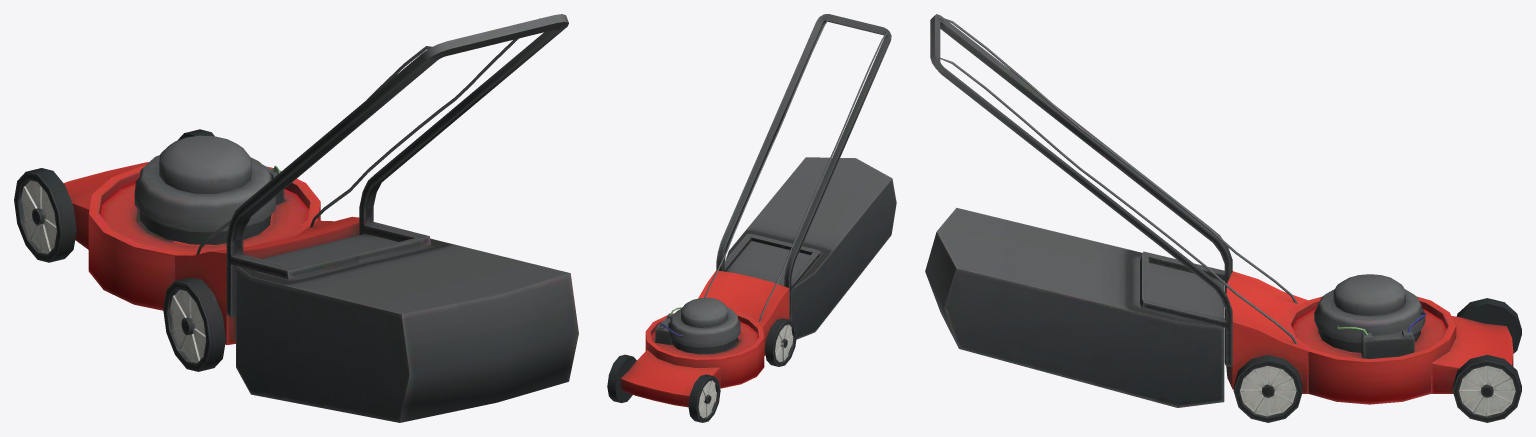
The model's file is mower-anim.glb.
3 renders of one model, left to right at view 1: azimuth 30°, elevation 25°; view 2: azimuth 150°, elevation 25°; view 3: azimuth 270°, elevation 25°, orthographic. The views are drawn at different scales.
Parts seen in each view (by area): view 1: Bag, HandleBar, Engine, MainBody, WheelBL, WheelFL, BackBody, FrontBody; view 2: Bag, HandleBar, MainBody, Engine, BackBody, FrontBody, WheelFL, WheelBL, WheelFR; view 3: Bag, HandleBar, MainBody, Engine, BackBody, WheelBR, WheelFR, FrontBody, WheelFL.
Boxes of the visible parts, x1=… form: Bag: x1=236, y1=233, x2=578, y2=422; HandleBar: x1=196, y1=14, x2=568, y2=317; Engine: x1=134, y1=135, x2=284, y2=244; MainBody: x1=88, y1=164, x2=320, y2=310; WheelBL: x1=163, y1=277, x2=225, y2=371; WheelFL: x1=14, y1=168, x2=76, y2=262; BackBody: x1=175, y1=216, x2=359, y2=344; FrontBody: x1=63, y1=162, x2=148, y2=249; Bag: x1=725, y1=157, x2=896, y2=339; HandleBar: x1=704, y1=14, x2=891, y2=321; MainBody: x1=645, y1=309, x2=764, y2=388; Engine: x1=655, y1=297, x2=740, y2=353; BackBody: x1=698, y1=270, x2=789, y2=355; FrontBody: x1=620, y1=350, x2=720, y2=407; WheelFL: x1=688, y1=374, x2=720, y2=422; WheelBL: x1=765, y1=318, x2=796, y2=366; WheelFR: x1=607, y1=354, x2=636, y2=402; Bag: x1=925, y1=207, x2=1224, y2=407; HandleBar: x1=930, y1=14, x2=1297, y2=366; MainBody: x1=1283, y1=296, x2=1456, y2=404; Engine: x1=1314, y1=274, x2=1426, y2=358; BackBody: x1=1226, y1=271, x2=1308, y2=393; WheelBR: x1=1233, y1=354, x2=1302, y2=422; WheelFR: x1=1453, y1=354, x2=1521, y2=422; FrontBody: x1=1431, y1=316, x2=1513, y2=393; WheelFL: x1=1456, y1=298, x2=1521, y2=353.
Size of the model in its own units: 134 by 308 by 467.
Materials: 1 (1 with a texture image).
